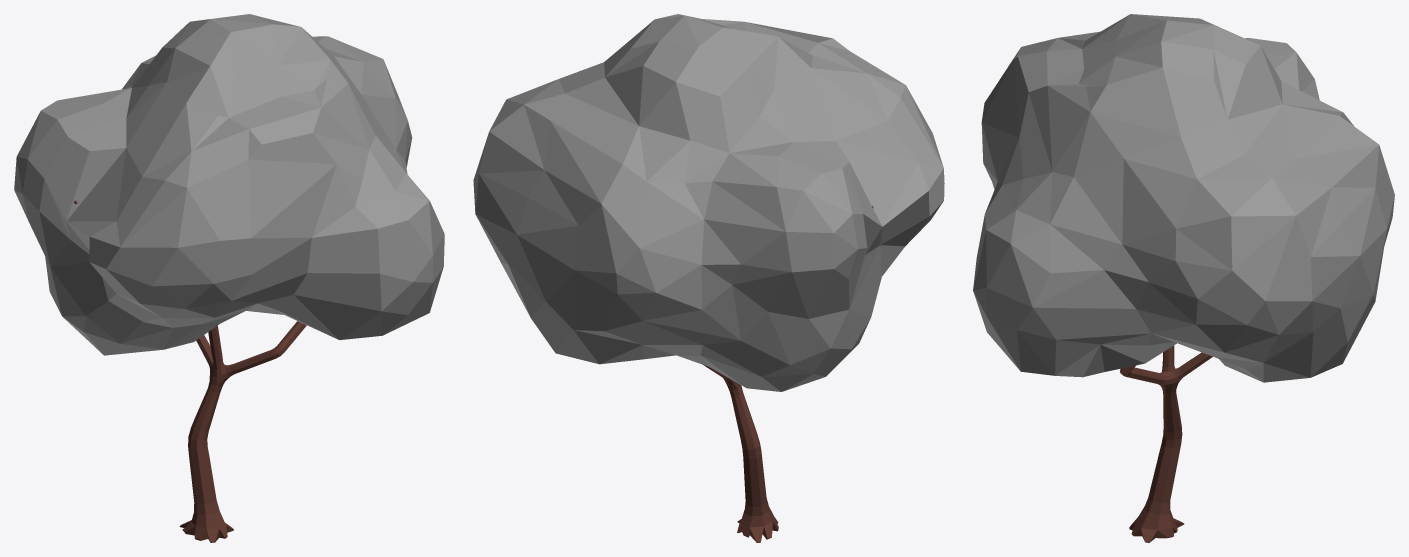
The model's file is Tree.fbx.
3 renders of one model, left to right at view 1: azimuth 30°, elevation 25°; view 2: azimuth 150°, elevation 25°; view 3: azimuth 270°, elevation 25°, orthographic. The views are drawn at different scales.
Visible parts, largest first — view 1: tree; view 2: tree; view 3: tree.
Boxes of the visible parts, <box> form: tree: <box>14,14,444,542</box>; tree: <box>473,14,944,542</box>; tree: <box>973,14,1394,542</box>.
Size of the model in its own units: 563 by 711 by 517.
